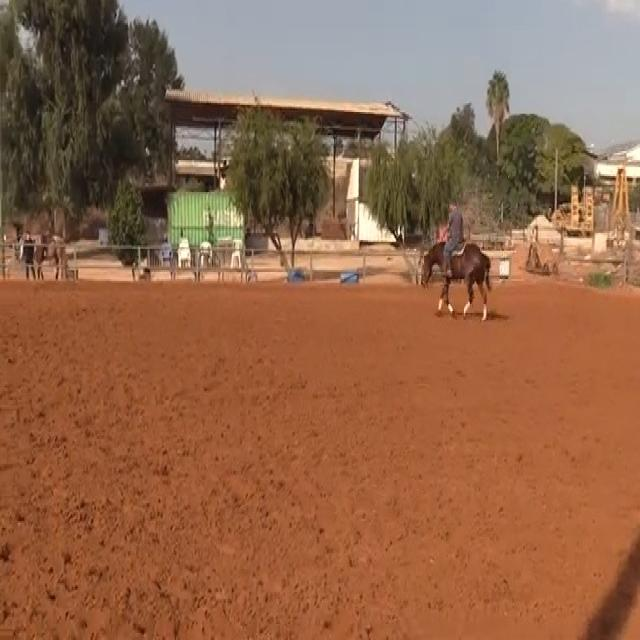horse: (417, 236, 493, 322)
